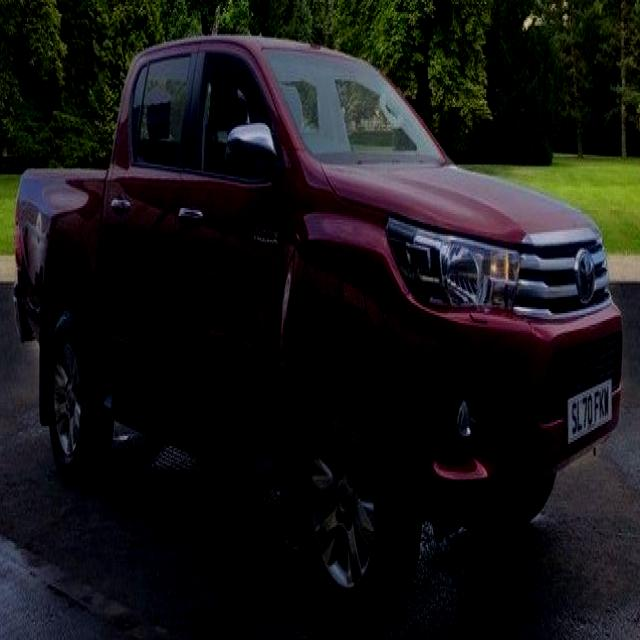CMT: (13, 38, 625, 632)
